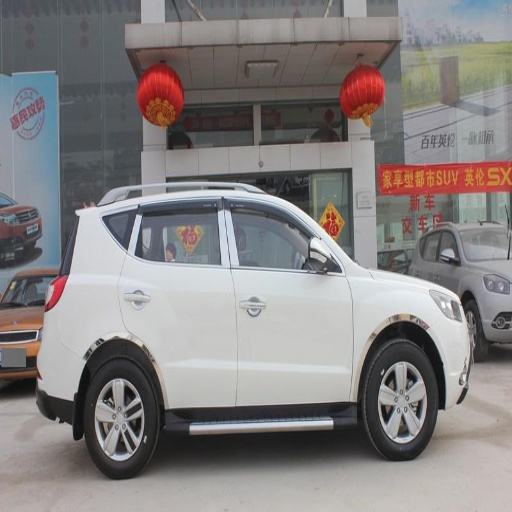back_right_door: (123, 195, 236, 407)
front_right_door: (229, 195, 353, 405)
